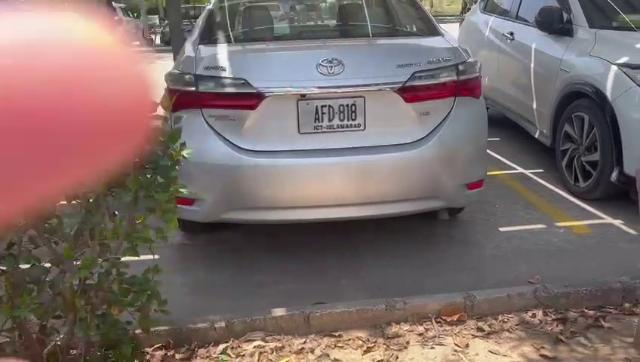plate: (295, 92, 369, 134)
